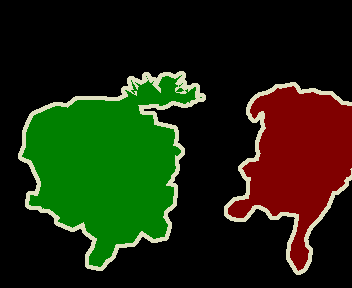dog: (18, 74, 205, 270), (227, 82, 352, 274)
